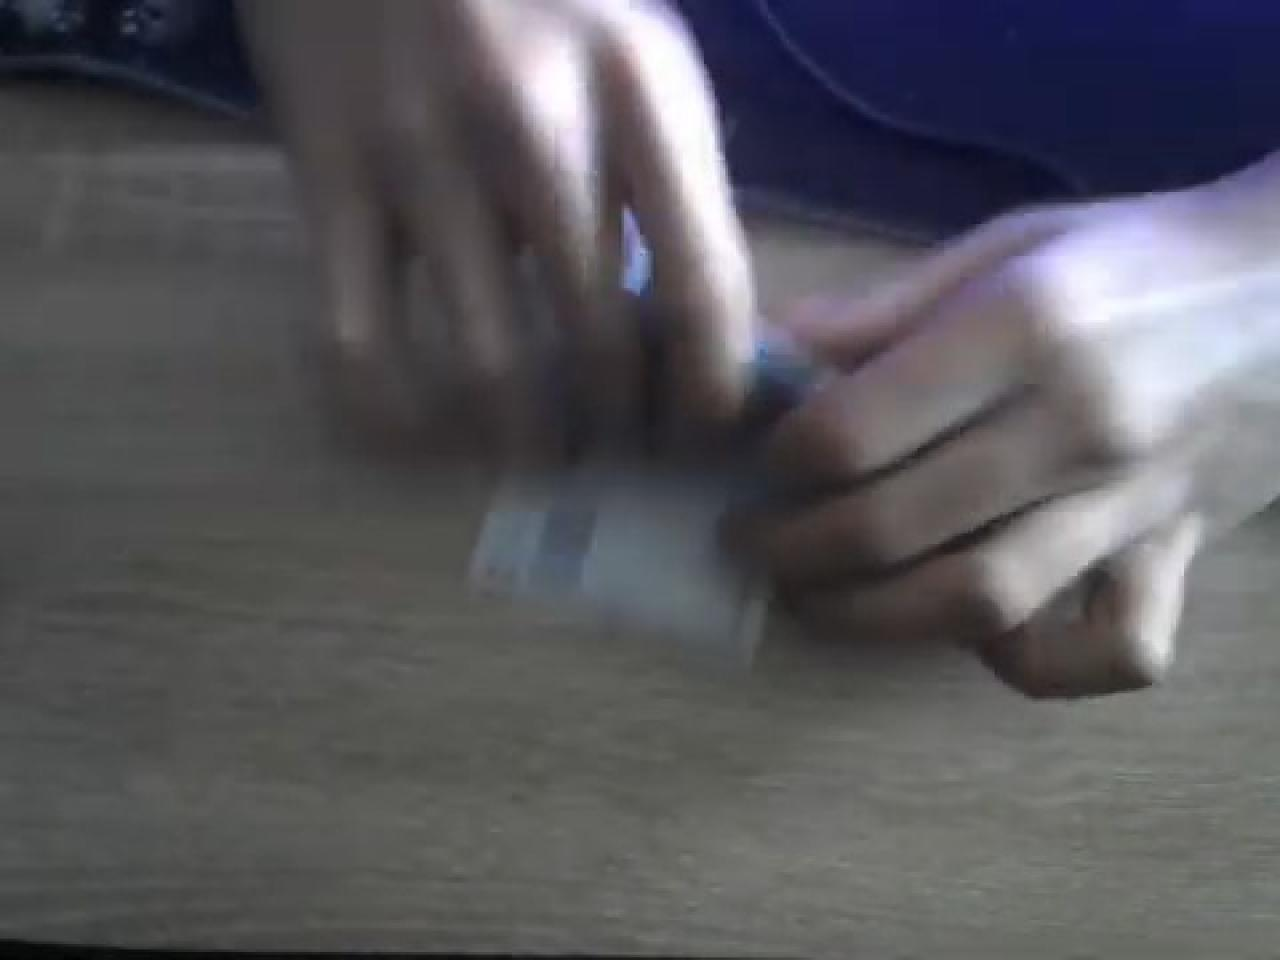20leva: (467, 467, 765, 680)
